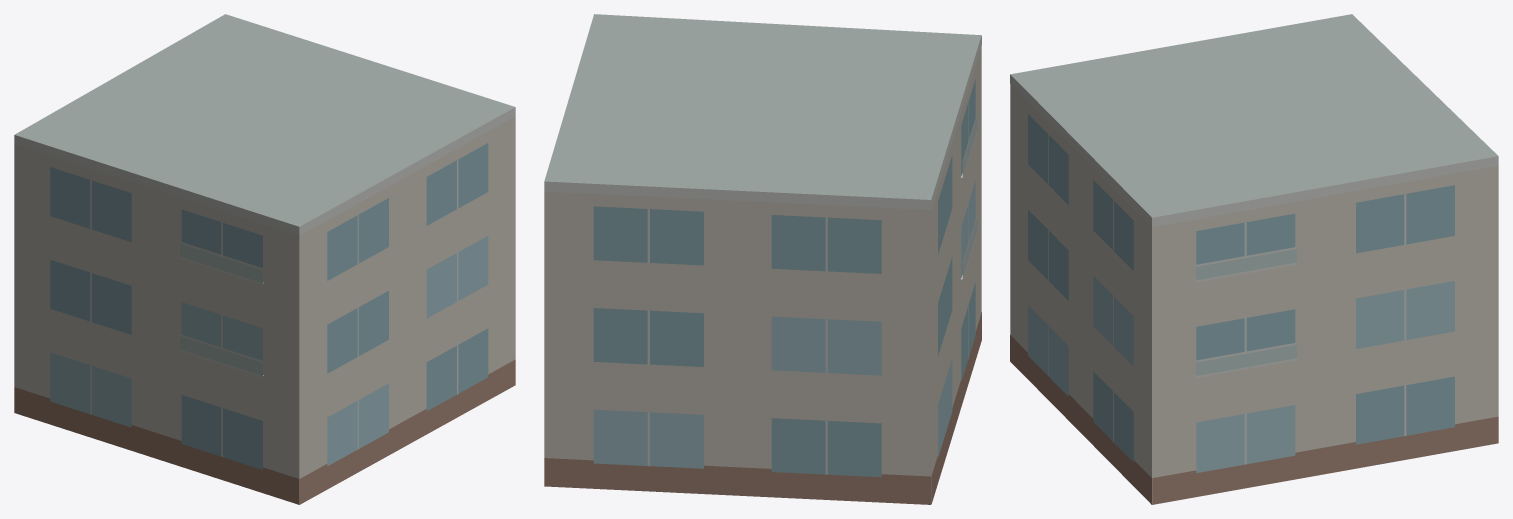
File: survey-upis-32517322.glb
3 renders of one model, left to right at view 1: azimuth 30°, elevation 25°; view 2: azimuth 150°, elevation 25°; view 3: azimuth 270°, elevation 25°, orthographic. The views are drawn at different scales.
Visible parts, largest first — view 1: survey-upis-32517322.tmp; view 2: survey-upis-32517322.tmp; view 3: survey-upis-32517322.tmp.
Part boxes in pixels (box(x1,y1,x2,y2)): survey-upis-32517322.tmp: box(14, 14, 515, 504); survey-upis-32517322.tmp: box(544, 14, 981, 504); survey-upis-32517322.tmp: box(1010, 14, 1498, 504).
Size of the model in its own units: 11.43 by 7.5 by 11.57.
